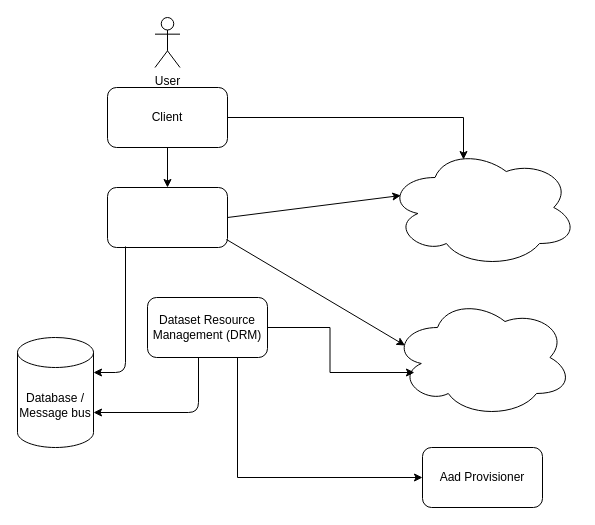
Some shapes in this 595 by 525 pixel diagram are drawn without their labels. Each missing label, with the centre of its shape:
"Azure Storage / Graph API" belongs at [482,357].
"Data Catalog API" belongs at [167,217].
"Identity Provider" belongs at [482,207].
